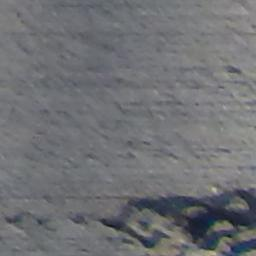Structural-Crack: (6, 183, 256, 256)
